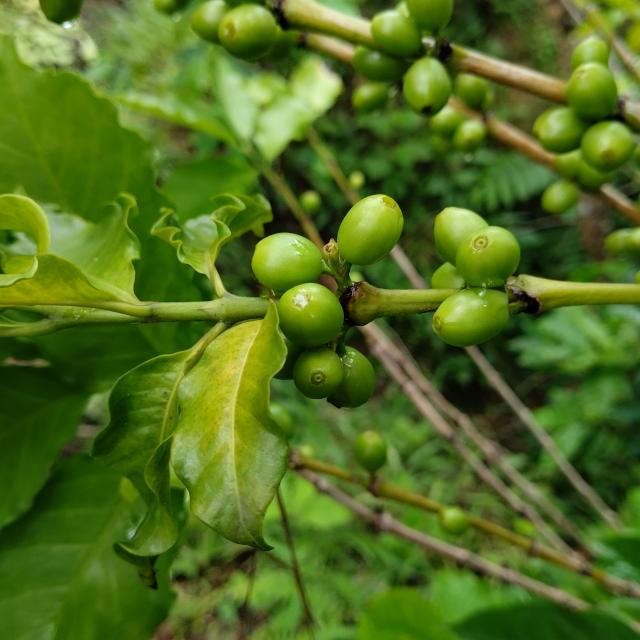green: (337, 194, 404, 265), (433, 287, 510, 347), (277, 282, 344, 348), (251, 232, 323, 292), (456, 226, 521, 288), (434, 206, 489, 265), (328, 346, 375, 409), (293, 346, 344, 399), (431, 262, 465, 288)
